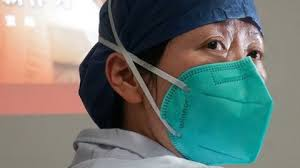with_mask: (106, 1, 283, 161)
